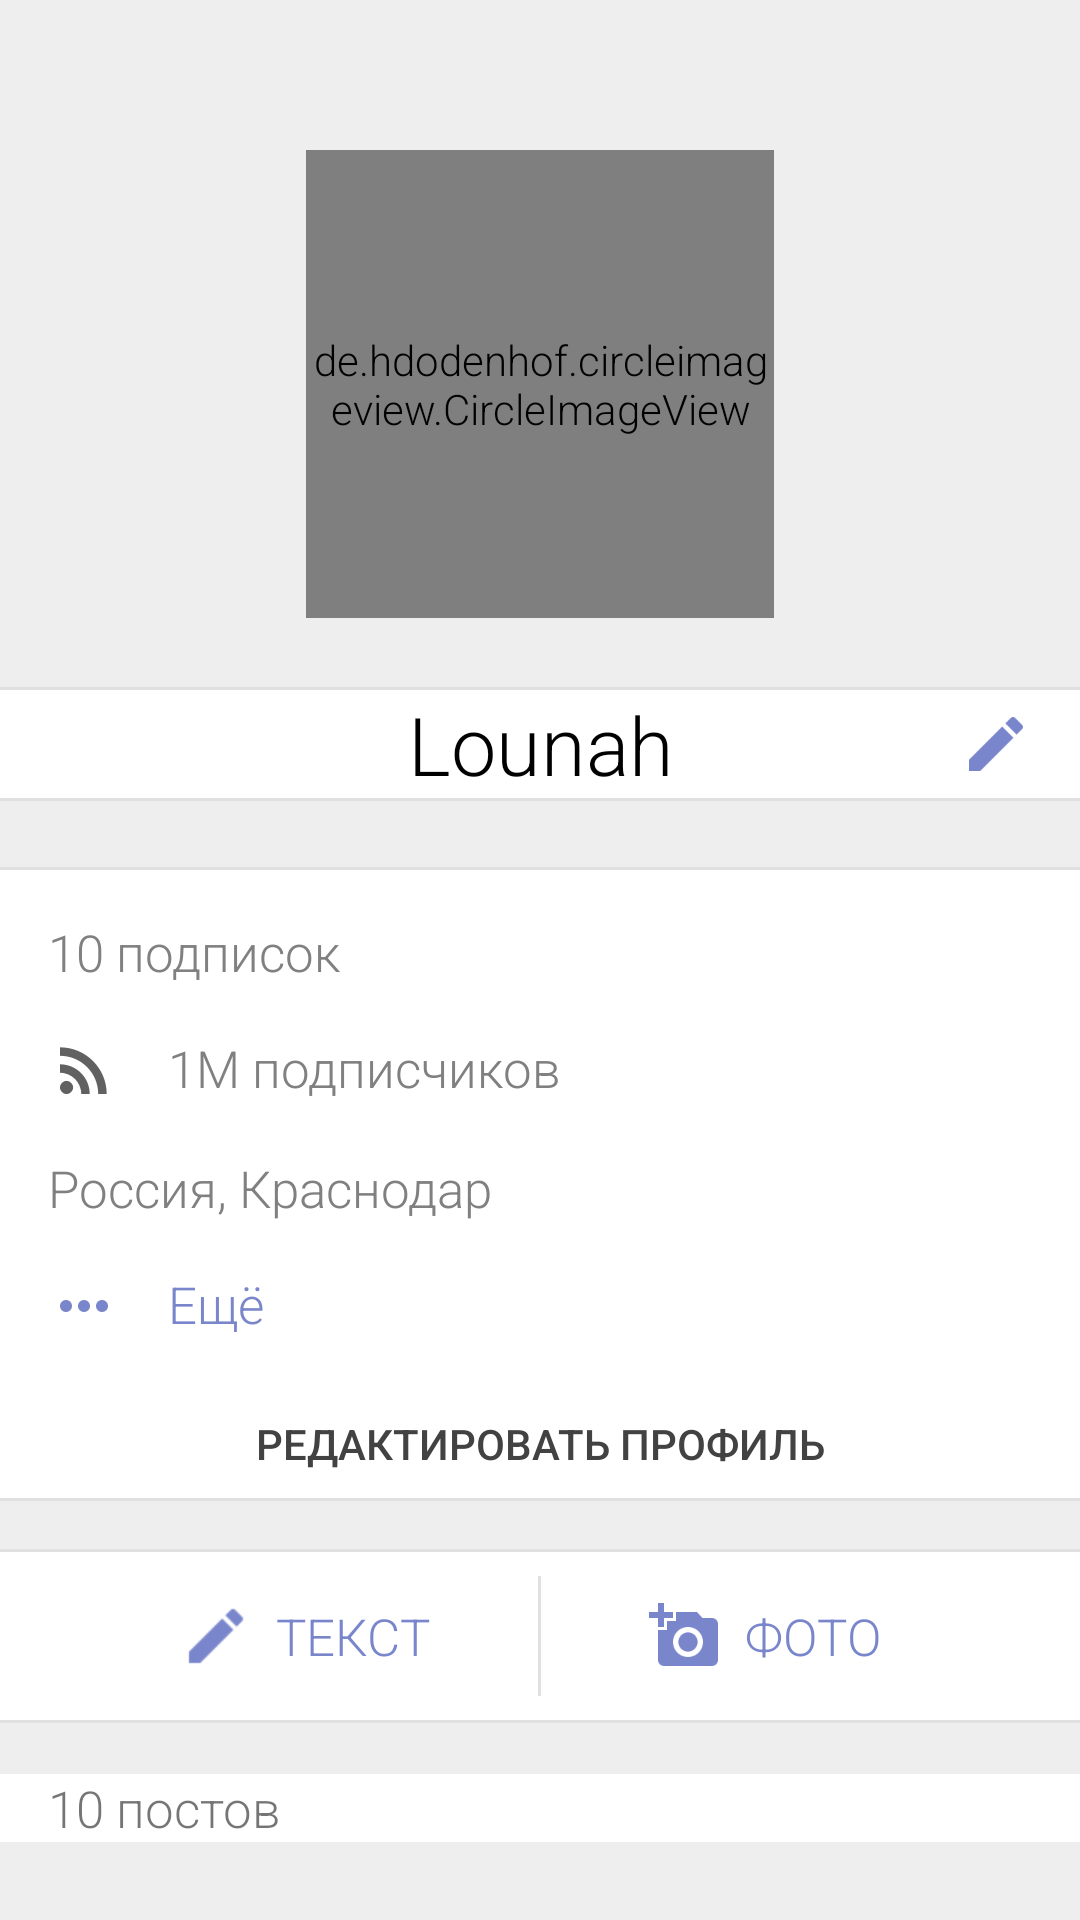

Named icons in this screenshot (1080px×1920px) and their bounding boxes, [x1, y1, x2, y2]:
mode edit: [969, 717, 1023, 771]
